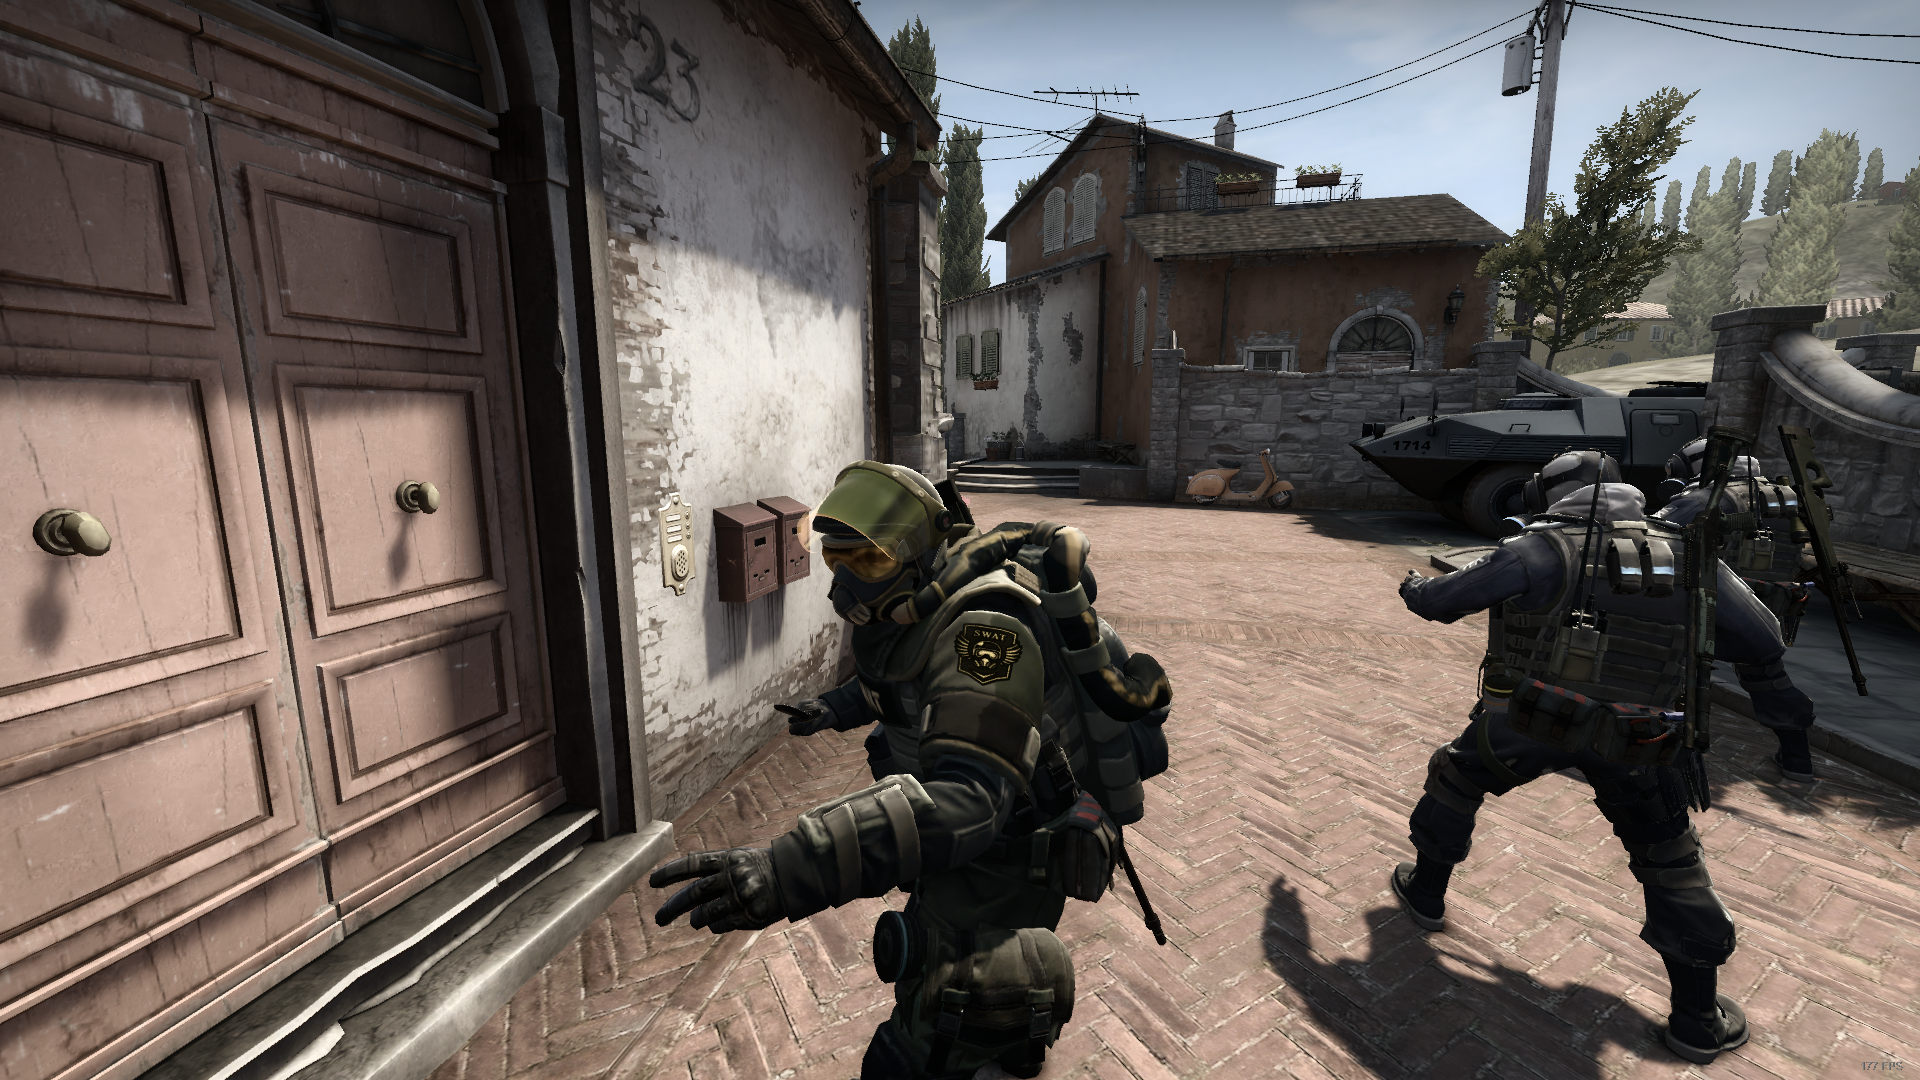ct: (1393, 450, 1784, 1058), (1650, 435, 1822, 778)
